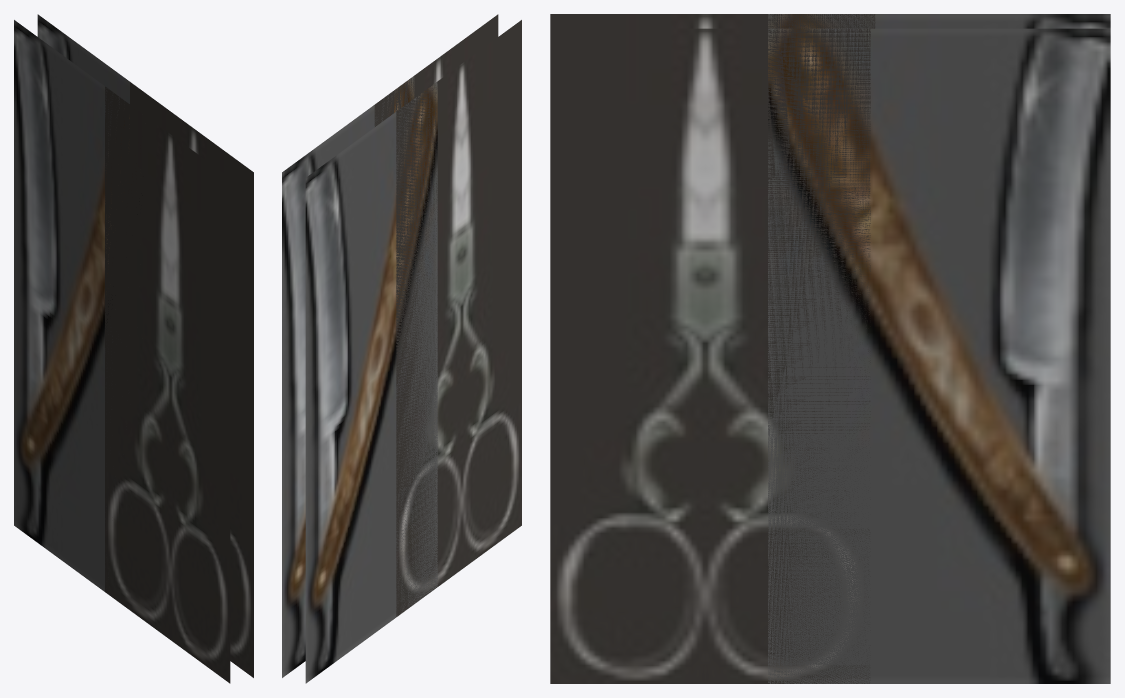
File: sign1_eng_a_icon_barber.fbx
3 views of the same model, side by side, from view 1: azimuth 30°, elevation 25°; view 2: azimuth 150°, elevation 25°; view 3: azimuth 270°, elevation 25° (orthographic). The views are drawn at different scales.
Visible parts, largest first — view 1: icon_scissors, icon_razor; view 2: icon_razor, icon_scissors; view 3: icon_razor, icon_scissors.
Part boxes in pixels (left/top/right/bottom): icon_scissors: left=105, top=82, right=253, bottom=683; icon_razor: left=14, top=14, right=142, bottom=591; icon_razor: left=282, top=76, right=437, bottom=683; icon_scissors: left=374, top=14, right=521, bottom=616; icon_razor: left=768, top=14, right=1110, bottom=683; icon_scissors: left=550, top=14, right=875, bottom=683.
Size of the model in its own units: 16.67 by 345 by 267.
Materials: 1 (1 with a texture image).
